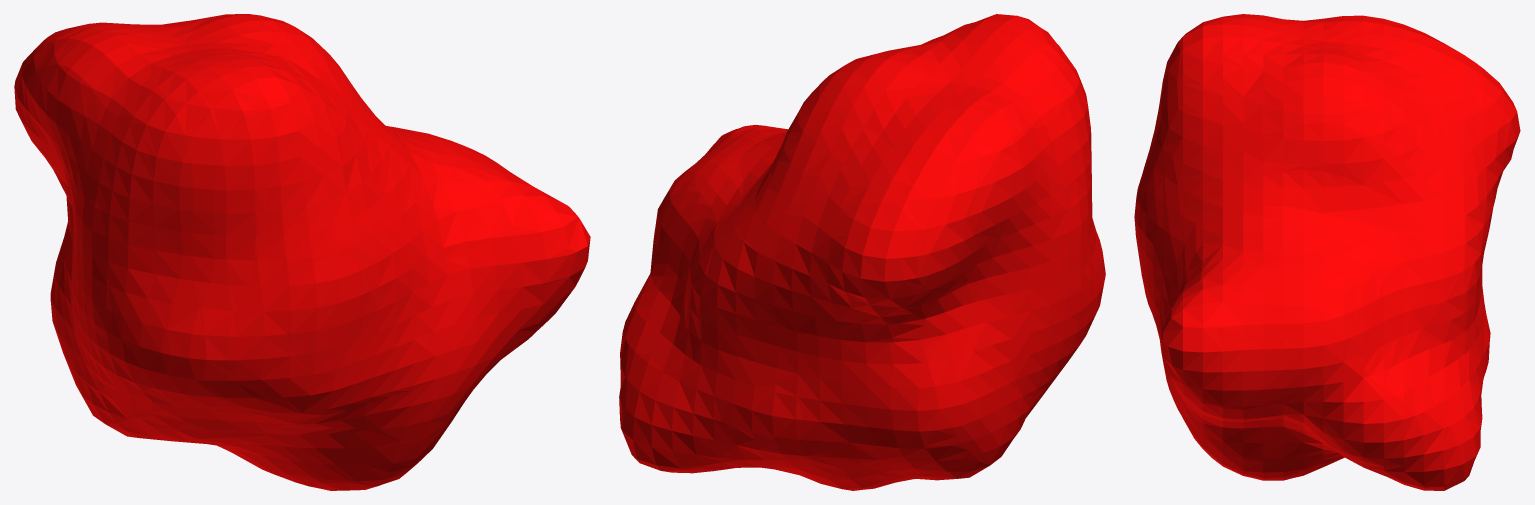
Rendered from cspC_coarse.dae.
3 views of the same model, side by side, from view 1: azimuth 30°, elevation 25°; view 2: azimuth 150°, elevation 25°; view 3: azimuth 270°, elevation 25° (orthographic). The views are drawn at different scales.
Visible parts, largest first — view 1: cspC; view 2: cspC; view 3: cspC.
Boxes of the visible parts, bbox=[...] form: cspC: bbox=[14, 14, 590, 490]; cspC: bbox=[619, 14, 1105, 490]; cspC: bbox=[1134, 14, 1520, 490].
Bounding box in the file's own units: 31.84 × 32.46 × 28.57.
